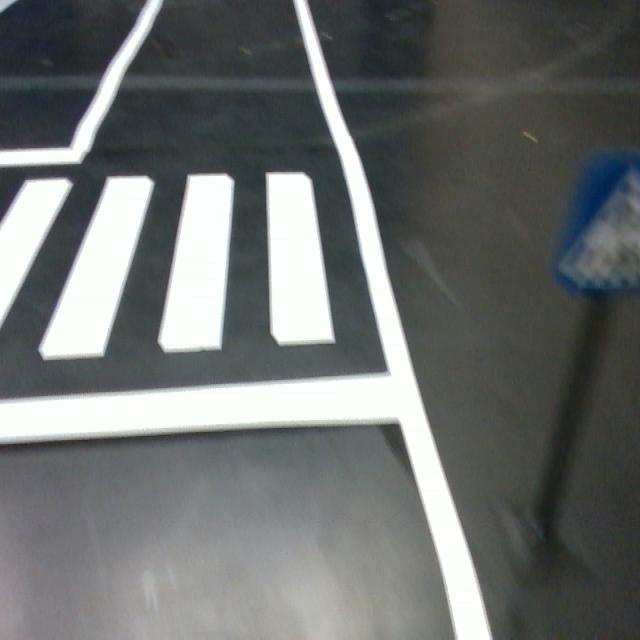crosswalk-sign: (548, 150, 640, 304)
